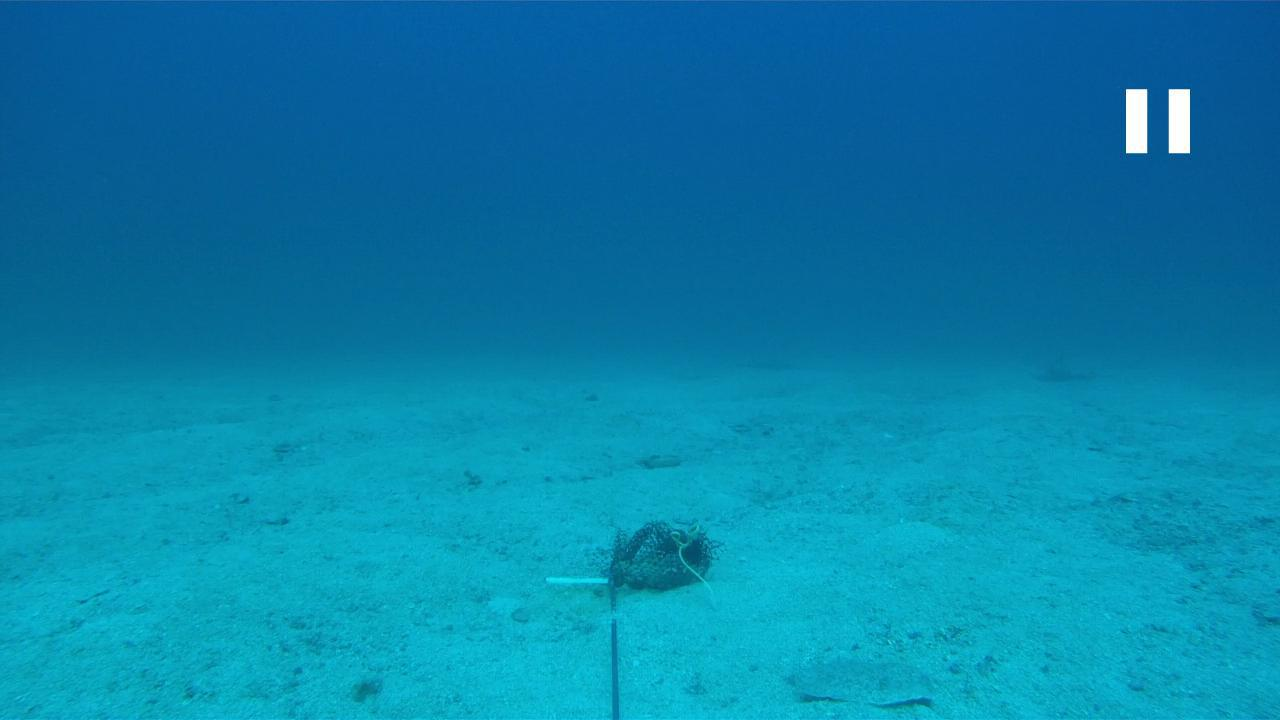bothus: (774, 652, 939, 710)
